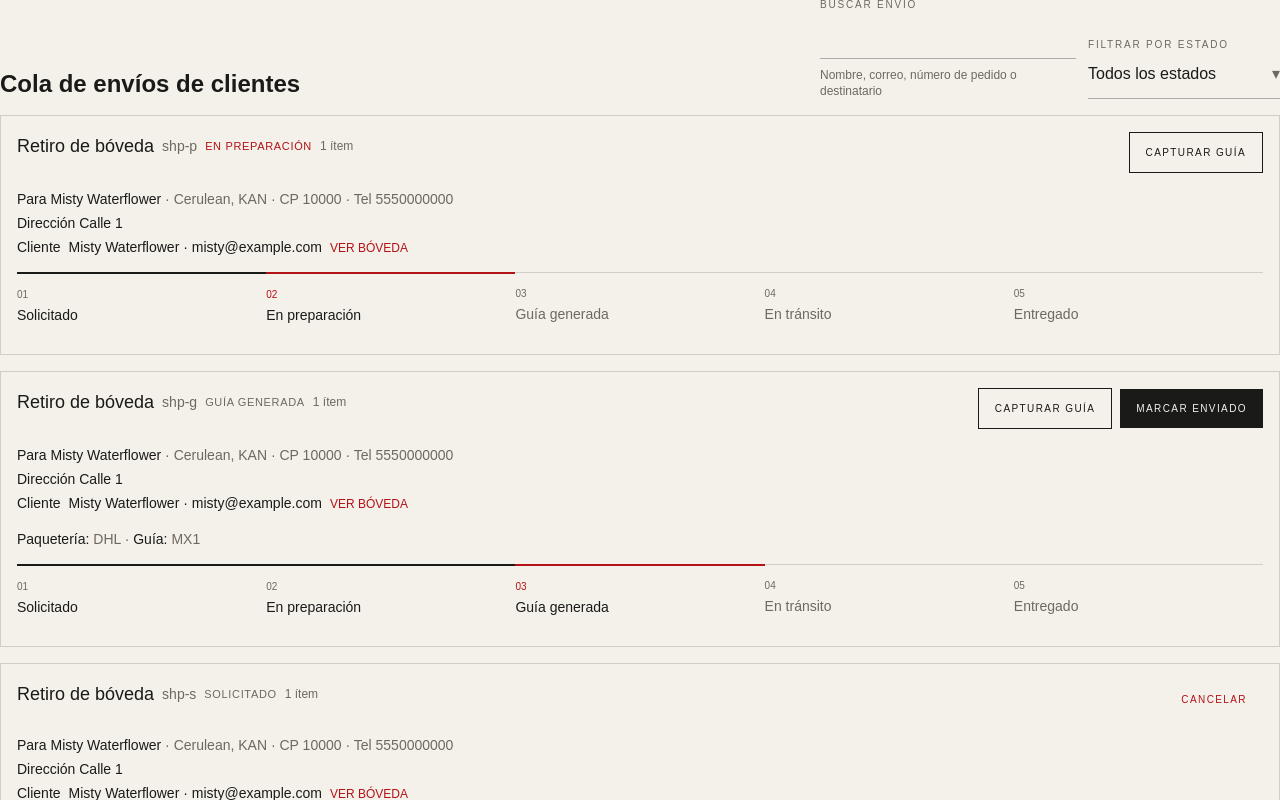
Test case: PS-UI-10 · confirmaciones (§37.6, S9) › ⛔ en `picking` y `guia` no existe ningún «Cancelar»; en `solicitado` sí, y su diálogo dice «Cancelar solicitud»
The image size is (1280, 800).
Check: the element with test id "shipment-row-shp-p" is shown, box 0,115 -> 1279,355
Step 1. Click the button "Cancelar" → (1214, 700), box 1165,680 -> 1263,719
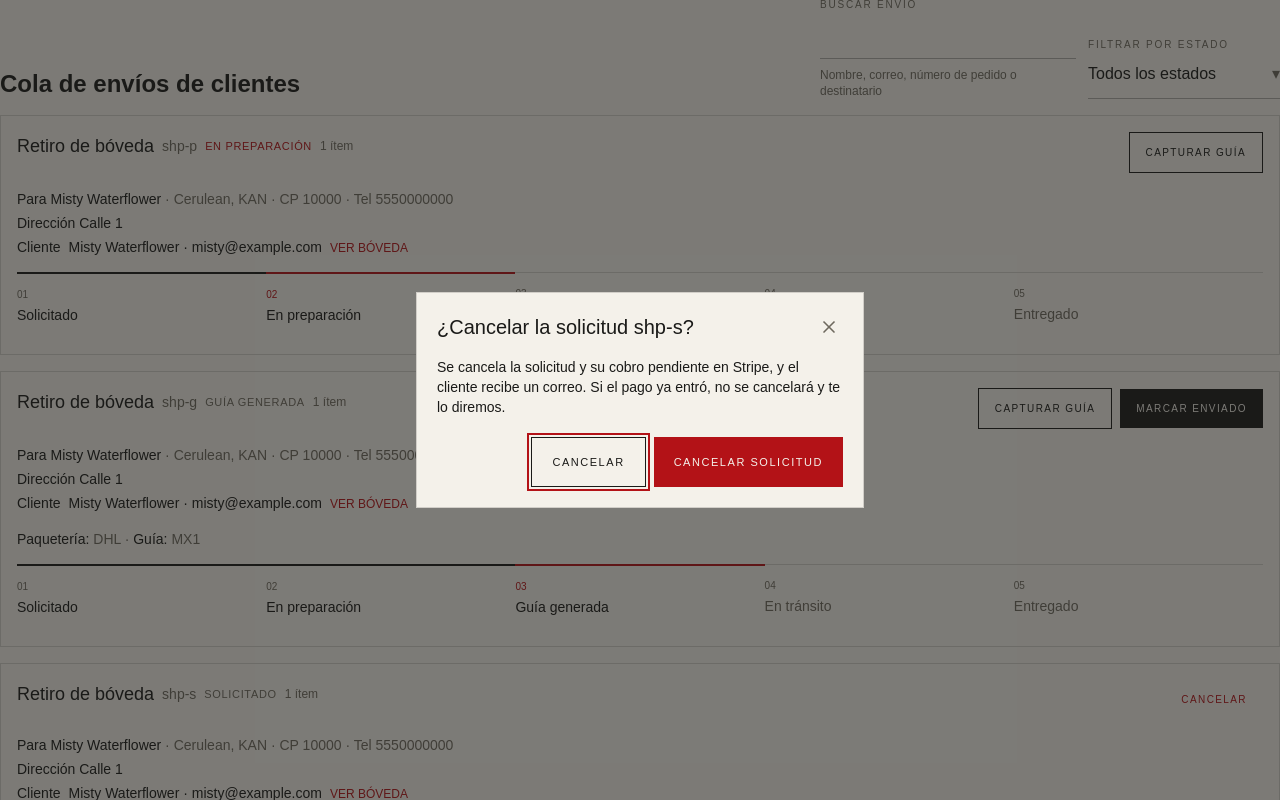
Check: the button "Cancelar solicitud" is shown, box 654,437 -> 843,487
